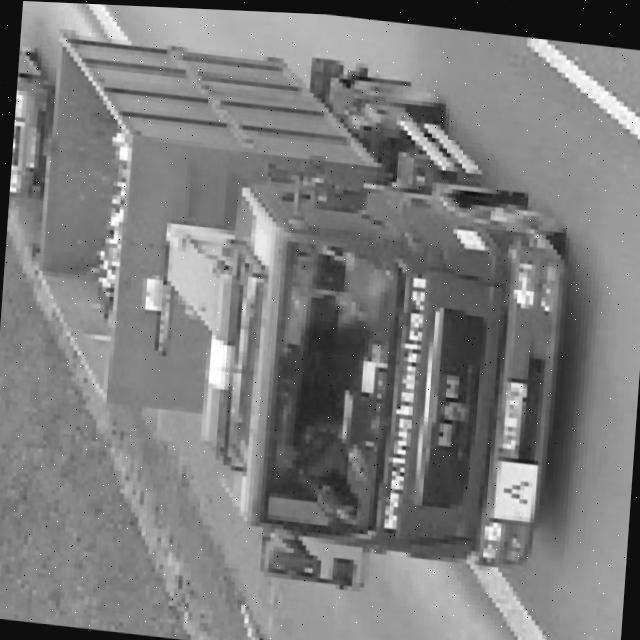truck: (14, 17, 584, 609)
